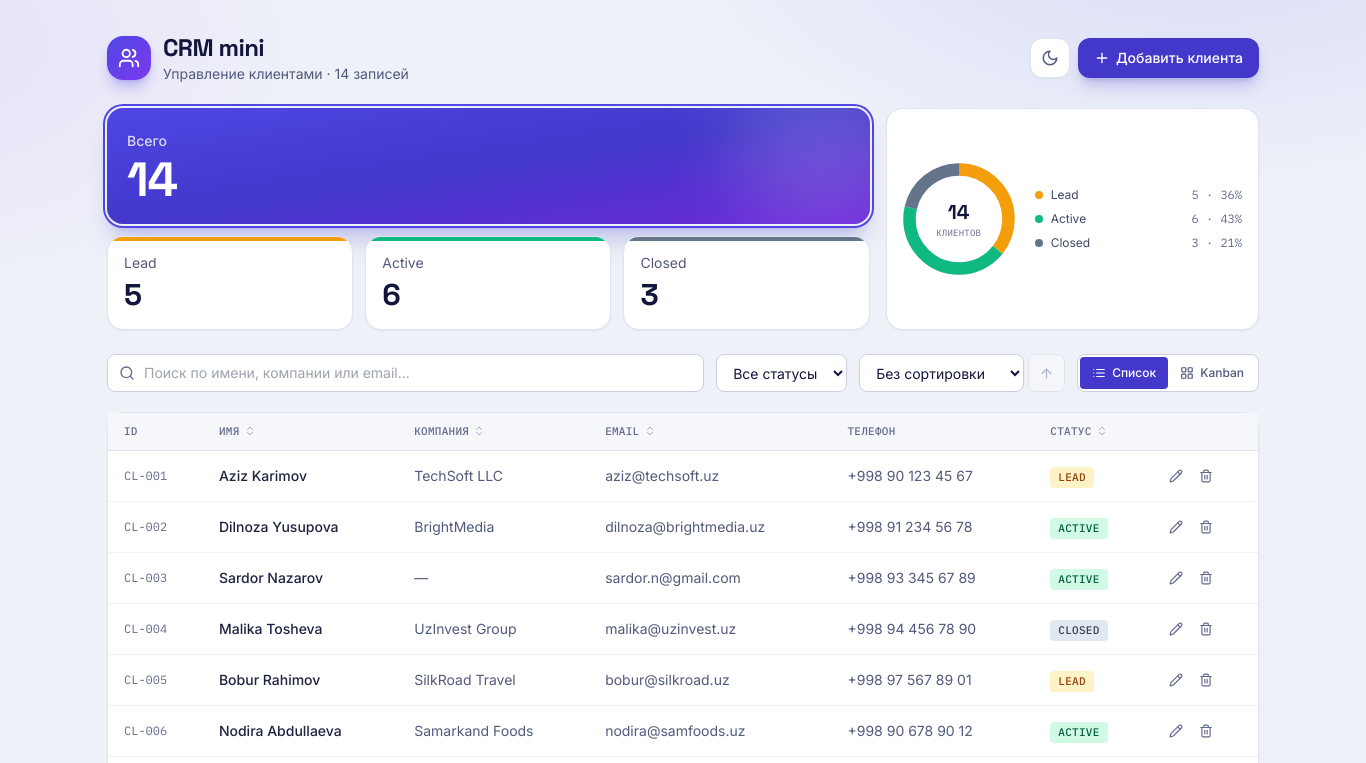
Test: kanban › moves a card with the arrow buttons (touch-friendly alternative to drag & drop)
Click the button "Kanban": (1212, 373) [1168,357,1256,389]
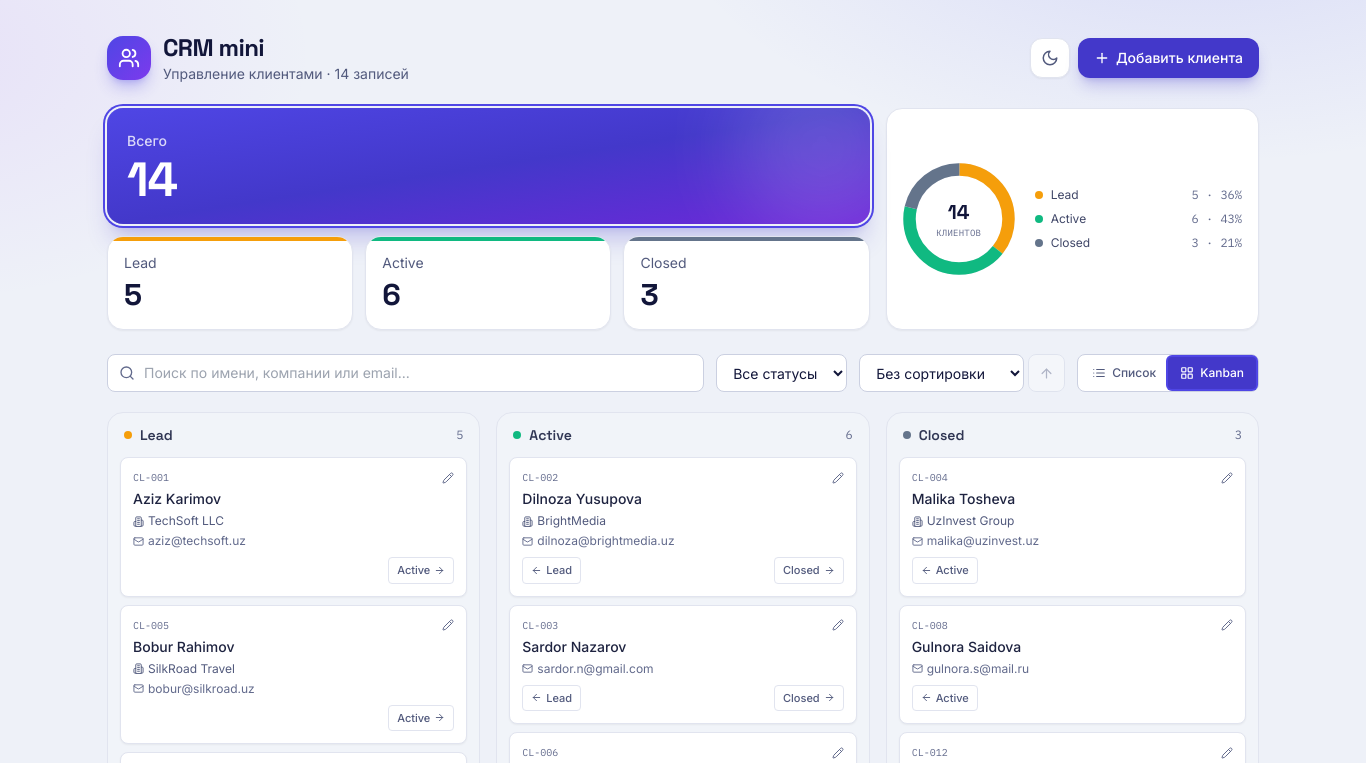
Click the button with aria-label "Переместить в Active": (421, 570) [388,557,454,584]
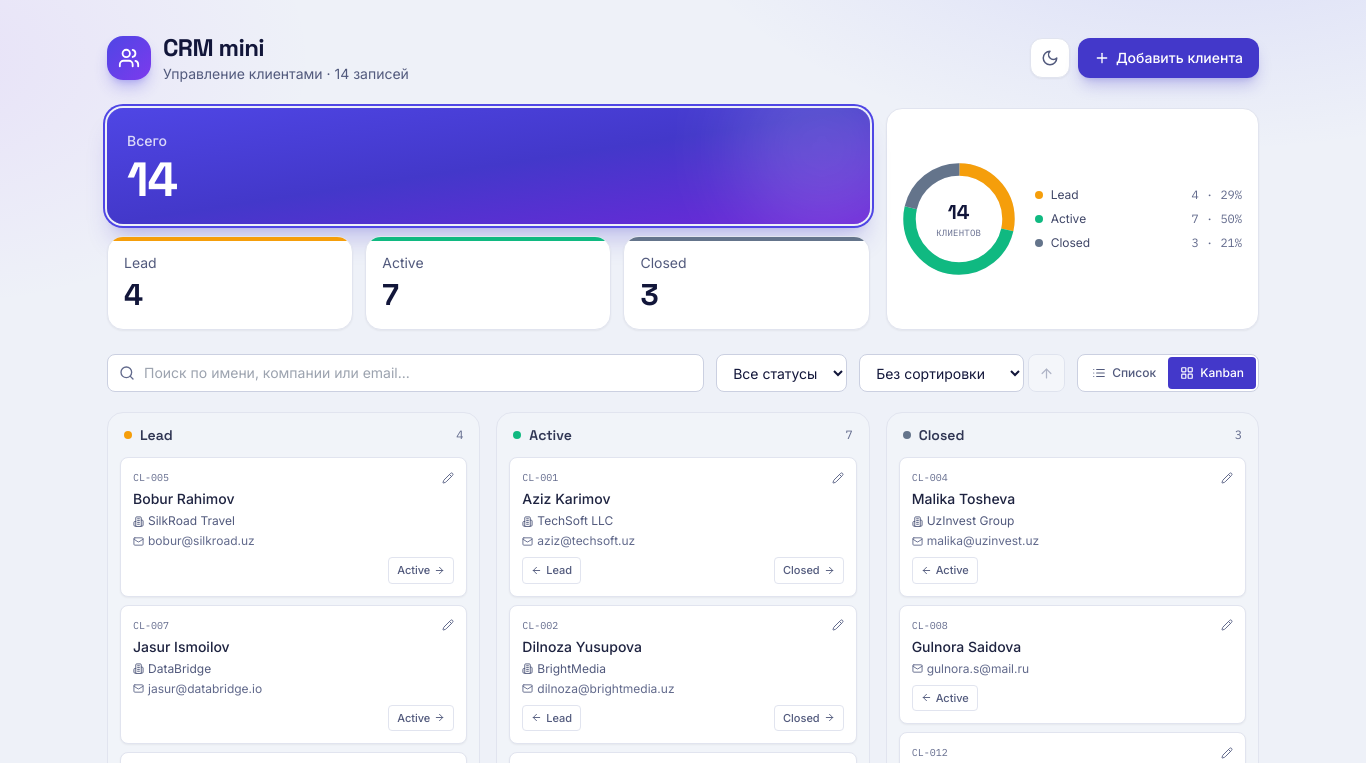
Expected: the button "Lead 4" is shown, [107,236,353,330]
Expected: the button "Active 7" is shown, [365,236,611,330]
